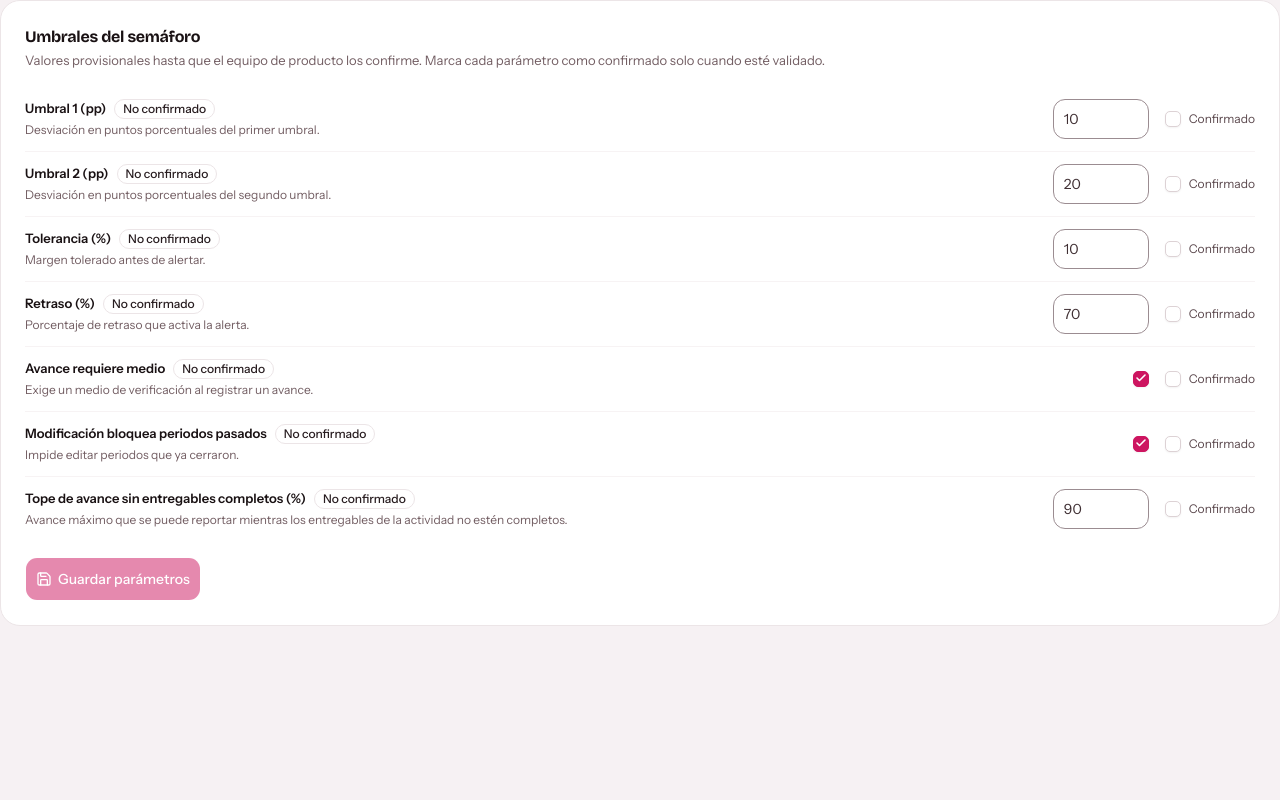
Test: UmbralesSection › blocks save inline when umbral 1 is not below umbral 2
Replace the text in the number field named "Umbral 1 (pp)" with "25": x=1101, y=118 [1053,98,1149,138]
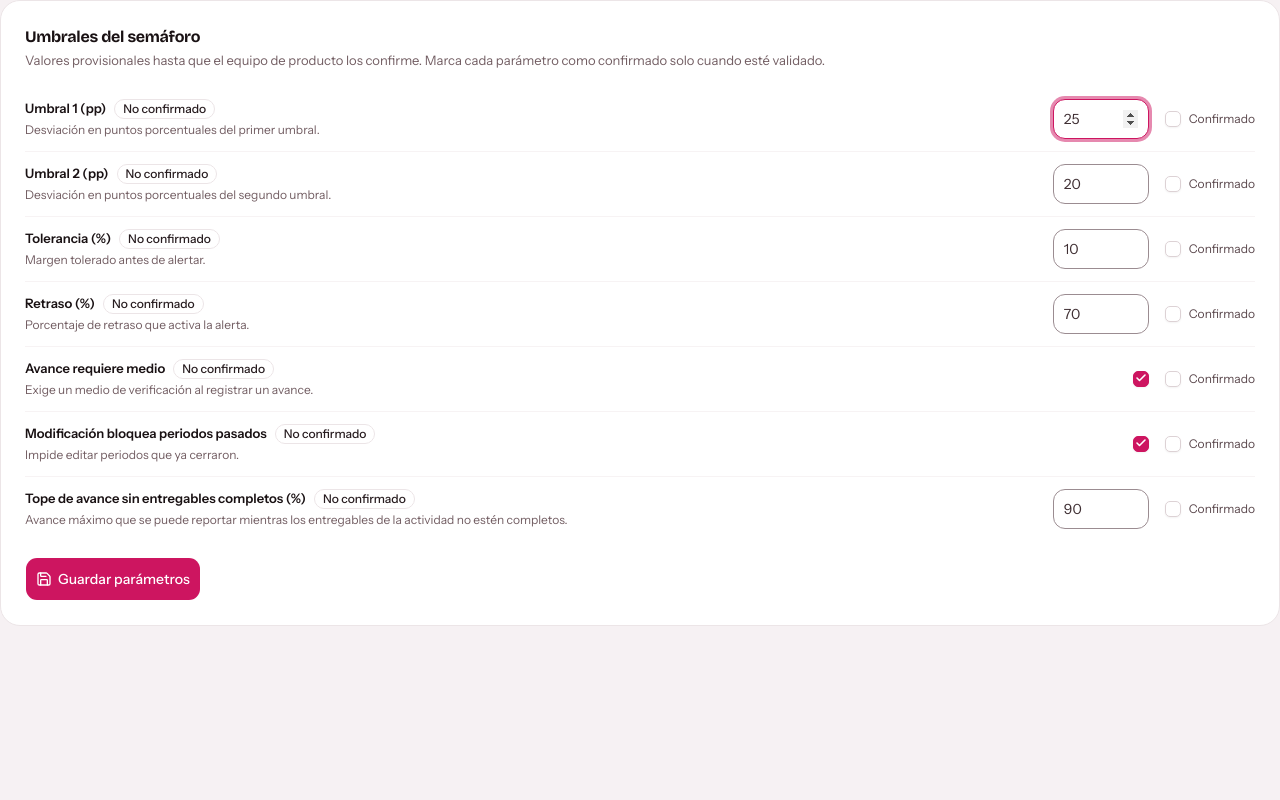
Click the button "Guardar parámetros": x=113, y=578 [25,556,201,600]
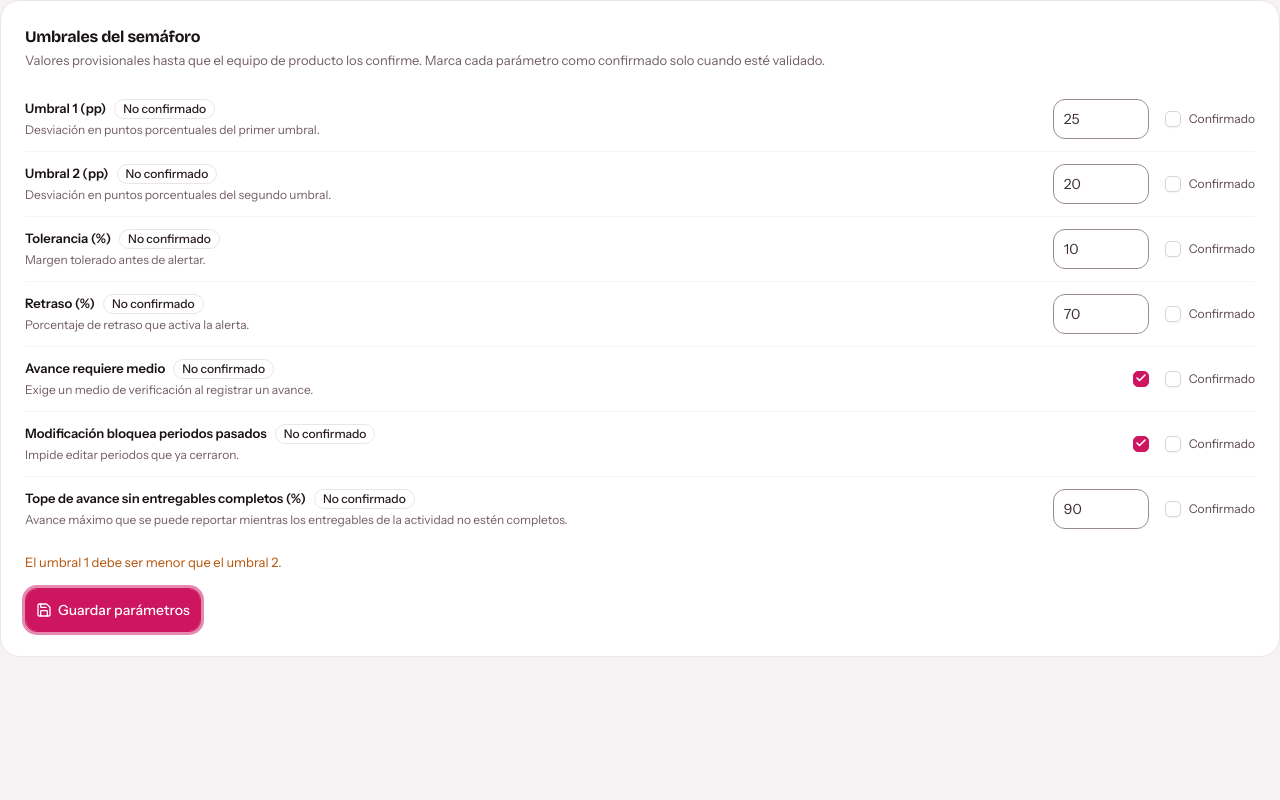
Expected: the message reads "El umbral 1 debe ser menor que el umbral 2.", [25,554,282,570]
